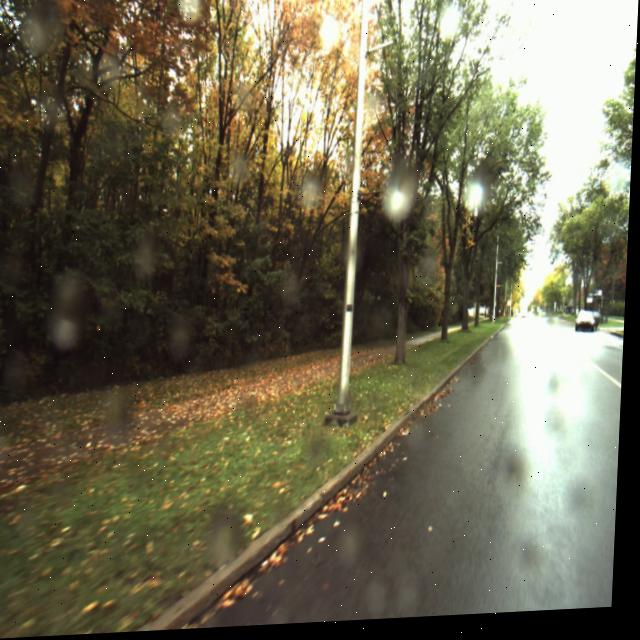car: (578, 315, 602, 340)
